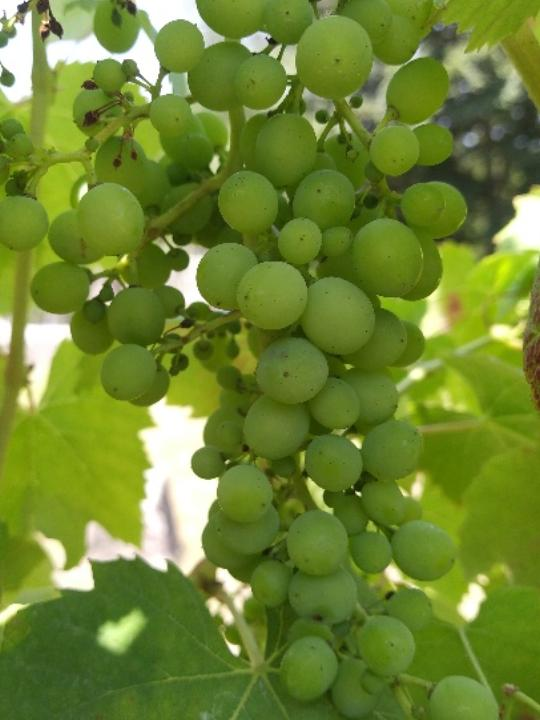grape: (0, 0, 503, 720)
